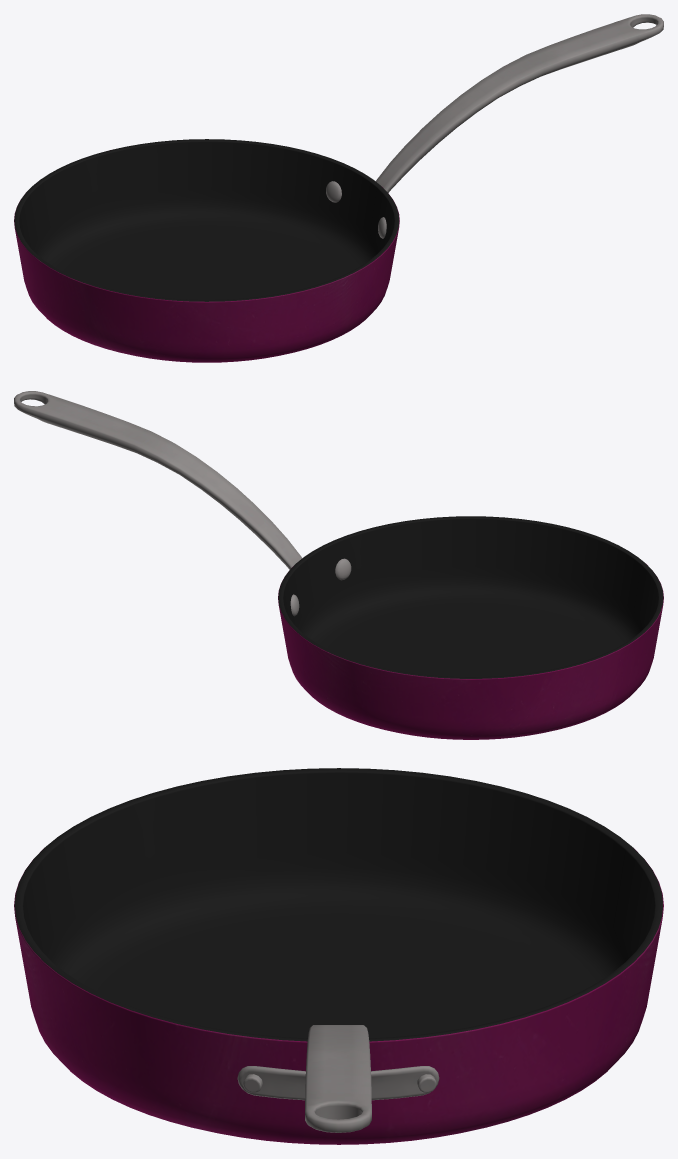
The model's file is padella15.glb.
3 renders of one model, top to bottom at view 1: azimuth 30°, elevation 25°; view 2: azimuth 150°, elevation 25°; view 3: azimuth 270°, elevation 25°, orthographic. The views are drawn at different scales.
Visible parts, largest first — view 1: contemporary_cookware_frying_pan_YBK2_FQ; view 2: contemporary_cookware_frying_pan_YBK2_FQ; view 3: contemporary_cookware_frying_pan_YBK2_FQ.
Part boxes in pixels (x1,y1,x2,y2): contemporary_cookware_frying_pan_YBK2_FQ: (14, 14, 663, 362); contemporary_cookware_frying_pan_YBK2_FQ: (14, 391, 663, 739); contemporary_cookware_frying_pan_YBK2_FQ: (14, 768, 663, 1144).
Size of the model in its own units: 59.34 by 15.05 by 31.91.
Materials: 2 (2 with a texture image).
